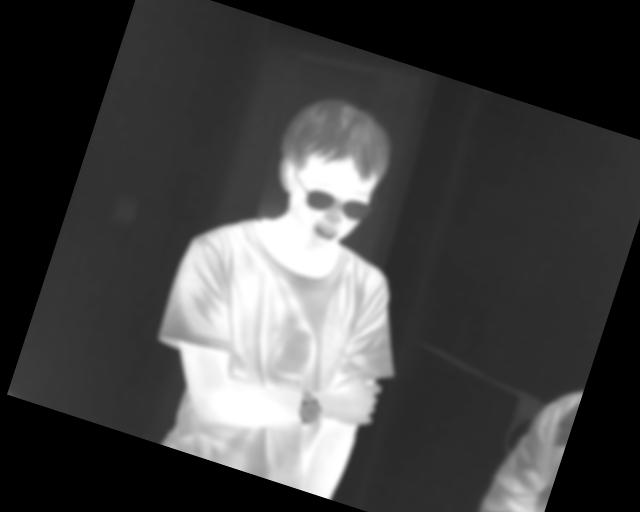face: (253, 84, 405, 259)
